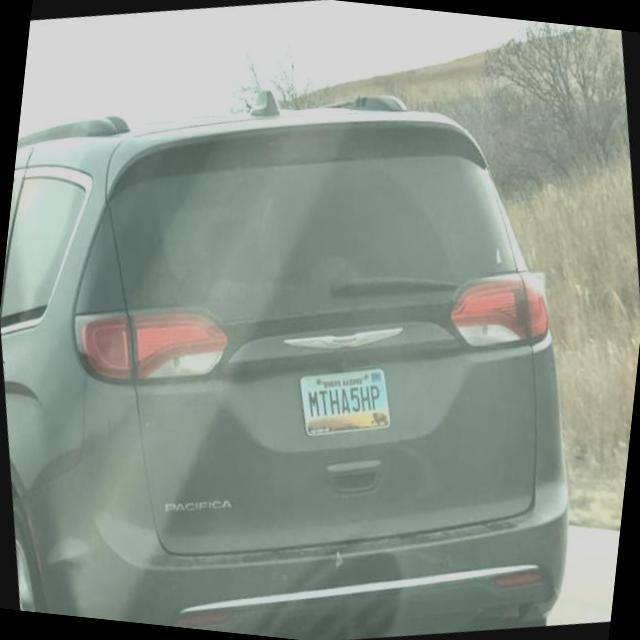LicensePlate: (297, 367, 390, 434)
